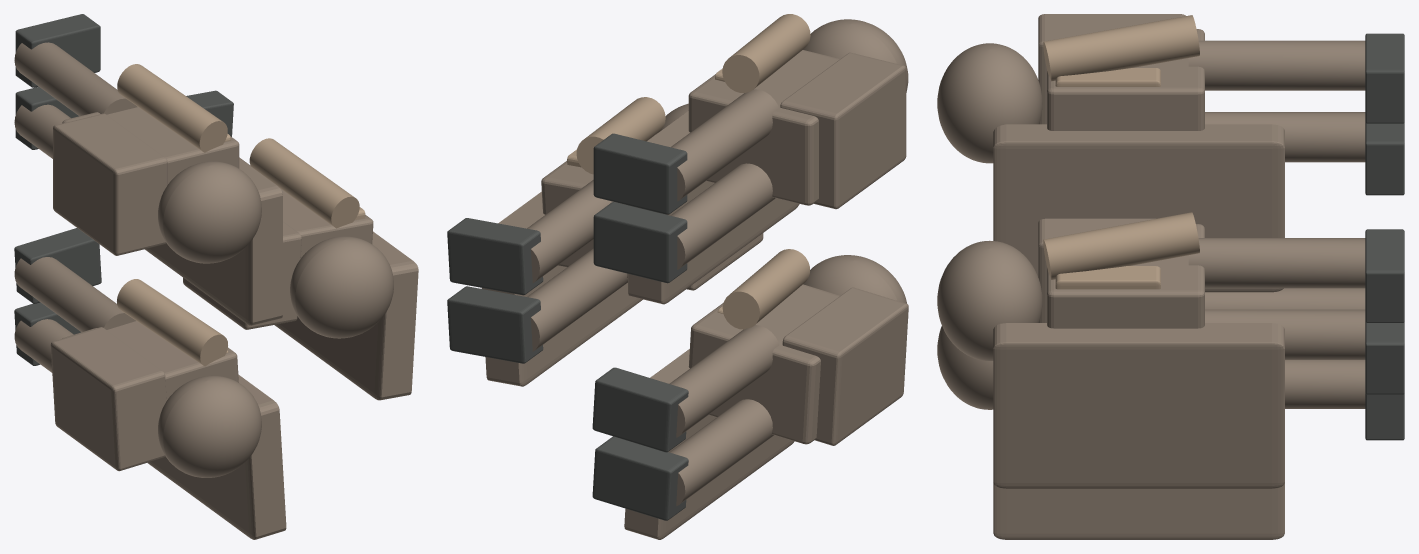
File: d-u02-dominion-assault-infantry-lod1.glb
3 renders of one model, left to right at view 1: azimuth 30°, elevation 25°; view 2: azimuth 150°, elevation 25°; view 3: azimuth 270°, elevation 25°, orthographic. The views are drawn at different scales.
Parts seen in each view (by area): view 1: soldier_1_backpack, soldier_2_backpack, soldier_2_helmet, soldier_1_helmet, soldier_0_helmet, soldier_0_shield, soldier_1_shield, soldier_2_shield, soldier_1_leg_1, soldier_2_leg_1, soldier_1_arm_1, soldier_2_arm_1 (+12 smaller); view 2: soldier_1_backpack, soldier_2_backpack, soldier_2_torso, soldier_1_torso, soldier_2_boot_1, soldier_1_boot_1, soldier_1_boot_-1, soldier_2_boot_-1, soldier_0_boot_-1, soldier_0_boot_1, soldier_2_leg_1, soldier_1_leg_1 (+14 smaller); view 3: soldier_0_shield, soldier_1_shield, soldier_2_shield, soldier_0_helmet, soldier_1_helmet, soldier_0_leg_1, soldier_1_leg_1, soldier_1_torso, soldier_0_torso, soldier_1_arm_1, soldier_0_arm_1, soldier_0_leg_-1 (+13 smaller).
Part boxes in pixels (<box>): soldier_1_backpack: <box>53,113,167,255</box>; soldier_2_backpack: <box>50,327,166,471</box>; soldier_2_helmet: <box>158,375,261,477</box>; soldier_1_helmet: <box>158,161,261,263</box>; soldier_0_helmet: <box>290,236,393,338</box>; soldier_0_shield: <box>274,231,418,400</box>; soldier_1_shield: <box>145,158,282,325</box>; soldier_2_shield: <box>147,374,286,539</box>; soldier_1_leg_1: <box>14,42,137,116</box>; soldier_2_leg_1: <box>14,257,135,332</box>; soldier_1_arm_1: <box>117,64,227,152</box>; soldier_2_arm_1: <box>117,279,227,366</box>; soldier_1_backpack: <box>780,52,906,209</box>; soldier_2_backpack: <box>782,287,908,445</box>; soldier_2_torso: <box>688,284,839,444</box>; soldier_1_torso: <box>688,50,839,205</box>; soldier_2_boot_1: <box>592,367,688,452</box>; soldier_1_boot_1: <box>593,133,687,214</box>; soldier_1_boot_-1: <box>593,202,687,283</box>; soldier_2_boot_-1: <box>592,436,688,520</box>; soldier_0_boot_-1: <box>447,286,543,363</box>; soldier_0_boot_1: <box>447,218,543,295</box>; soldier_2_leg_1: <box>669,325,779,437</box>; soldier_1_leg_1: <box>671,89,778,201</box>; soldier_0_shield: <box>993,323,1284,488</box>; soldier_1_shield: <box>993,124,1284,292</box>; soldier_2_shield: <box>993,483,1284,539</box>; soldier_0_helmet: <box>937,240,1042,360</box>; soldier_1_helmet: <box>937,43,1042,163</box>; soldier_0_leg_1: <box>1188,238,1365,288</box>; soldier_1_leg_1: <box>1188,40,1365,90</box>; soldier_1_torso: <box>1047,29,1204,130</box>; soldier_0_torso: <box>1047,224,1204,328</box>; soldier_1_arm_1: <box>1043,15,1199,81</box>; soldier_0_arm_1: <box>1043,212,1199,279</box>; soldier_0_leg_-1: <box>1205,309,1365,359</box>.
Size of what is drawn, in the model's own units: 1.73 by 2.45 by 2.13.
